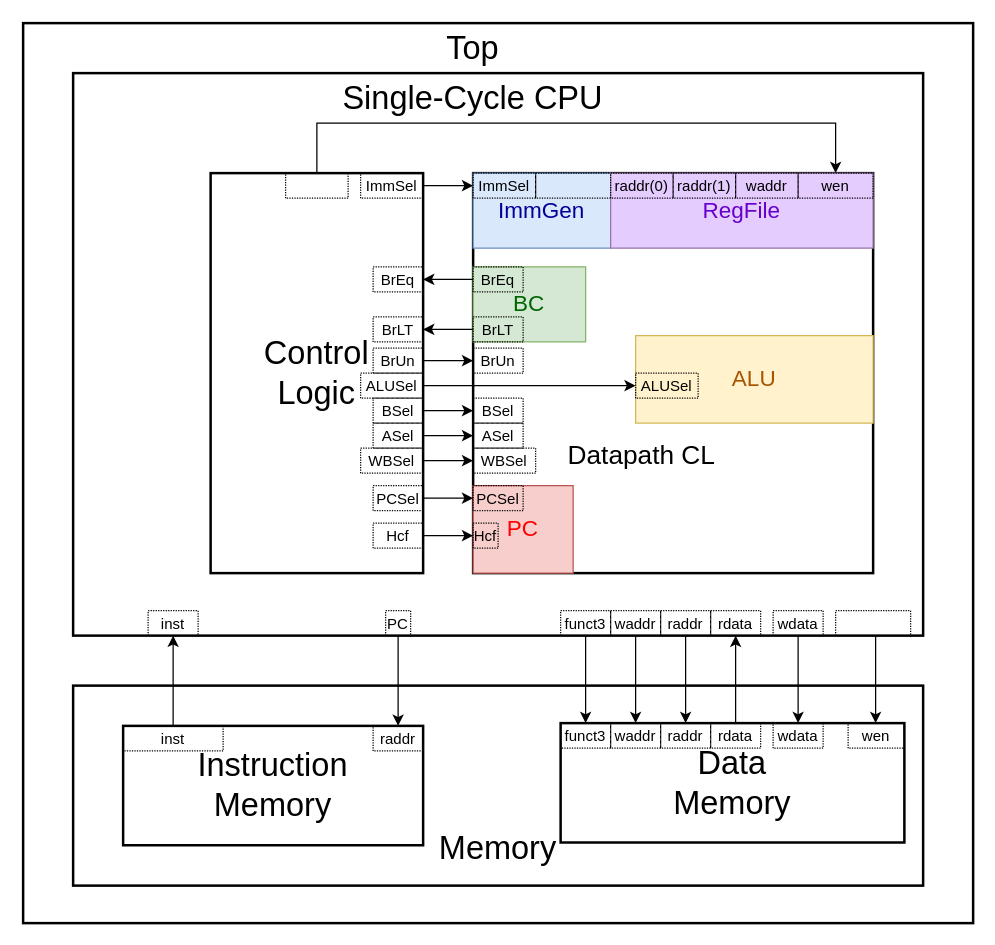
The diagram is 995 pixels wide and 945 high, and some of its shapes have lost their labels. The shapes that lost their labels are listed below. From the top down, each one's centre as x and y in pixels, then its label:
At point (316, 185): "RegWEn".
At point (572, 185): "inst_31_7".
At point (872, 622): "MemRW".
